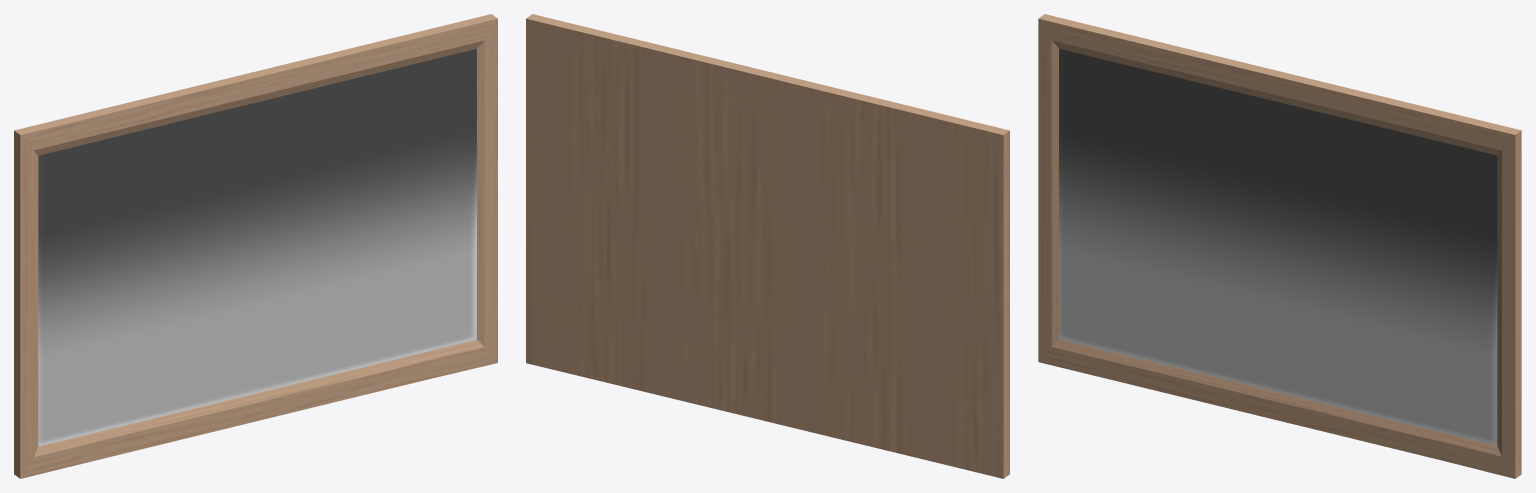
Rendered from Mirror_C.FBX.
The picture shows the model from 3 angles, left to right: view 1: azimuth 30°, elevation 25°; view 2: azimuth 150°, elevation 25°; view 3: azimuth 330°, elevation 25°; orthographic projection.
Parts seen in each view (by area): view 1: Mirror; view 2: Mirror; view 3: Mirror.
Part boxes in pixels (bbox=[...]): Mirror: bbox=[14, 14, 497, 478]; Mirror: bbox=[526, 14, 1009, 478]; Mirror: bbox=[1038, 14, 1521, 478].
Size of the model in its own units: 238 by 164 by 5.52.
